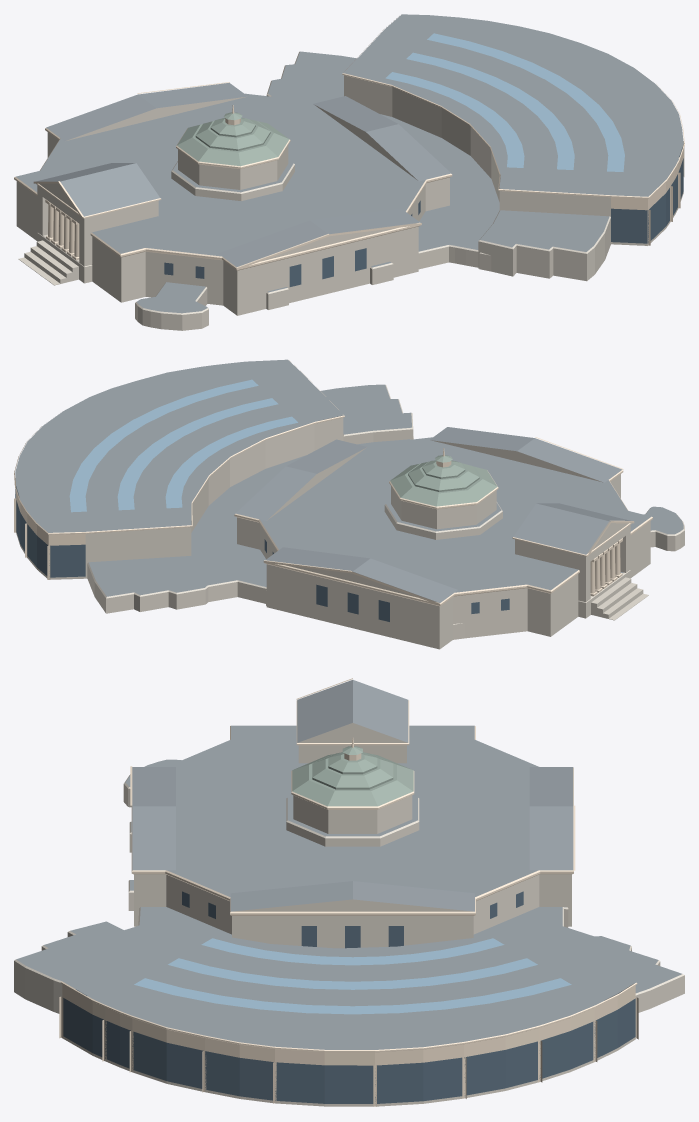
The model's file is chi-shedd-aquarium.glb.
The picture shows the model from 3 angles, top to bottom: view 1: azimuth 30°, elevation 25°; view 2: azimuth 150°, elevation 25°; view 3: azimuth 270°, elevation 25°; orthographic projection. The views are drawn at different scales.
Parts seen in each view (by area): view 1: Shedd Aquarium; view 2: Shedd Aquarium; view 3: Shedd Aquarium.
Boxes of the visible parts, x1,y1,x2,y2 form: Shedd Aquarium: [14, 14, 684, 330]; Shedd Aquarium: [14, 359, 684, 649]; Shedd Aquarium: [14, 678, 684, 1106].
Bounding box in the file's own units: 168 × 31.5 × 139.
